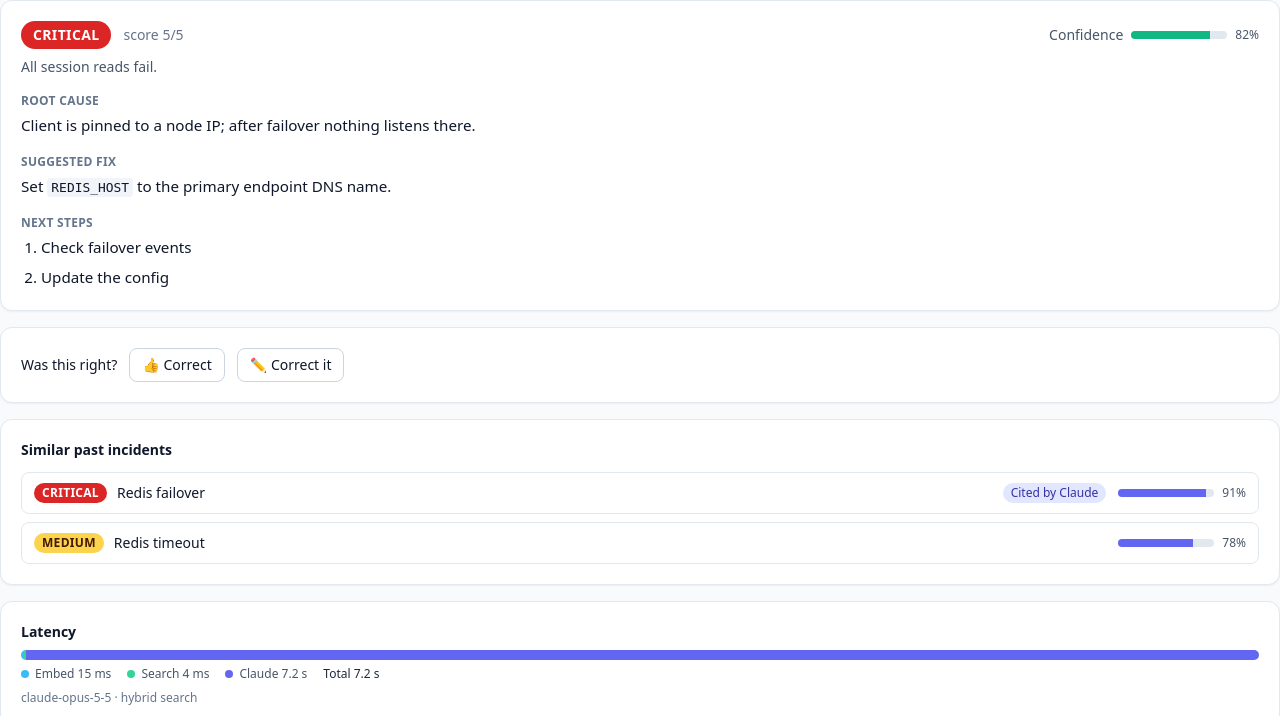
Test: ResultCard › expands a similar incident to show its root cause and fix
expect the text "rc2" is not shown: met
Step 1. Click the button "medium Redis timeout 78%" → (69,543), box [22,523,1258,563]
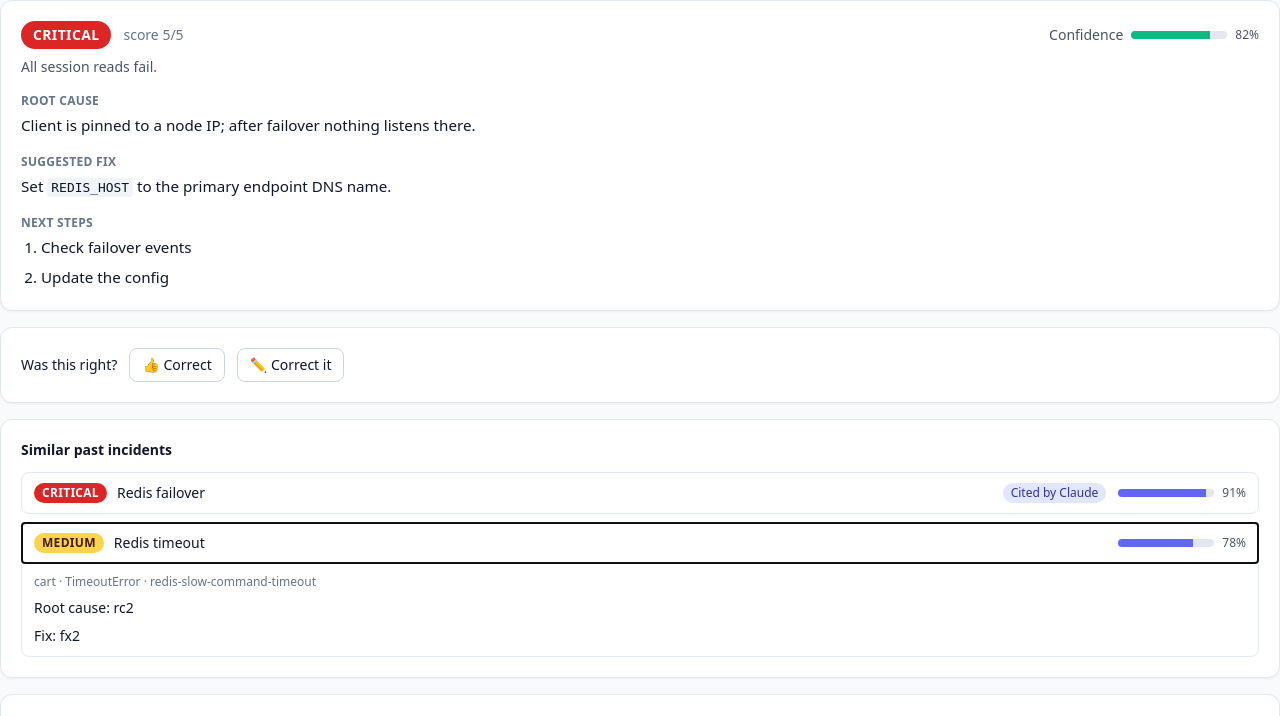
expect the text "rc2" is shown: met, box [114,598,134,617]
